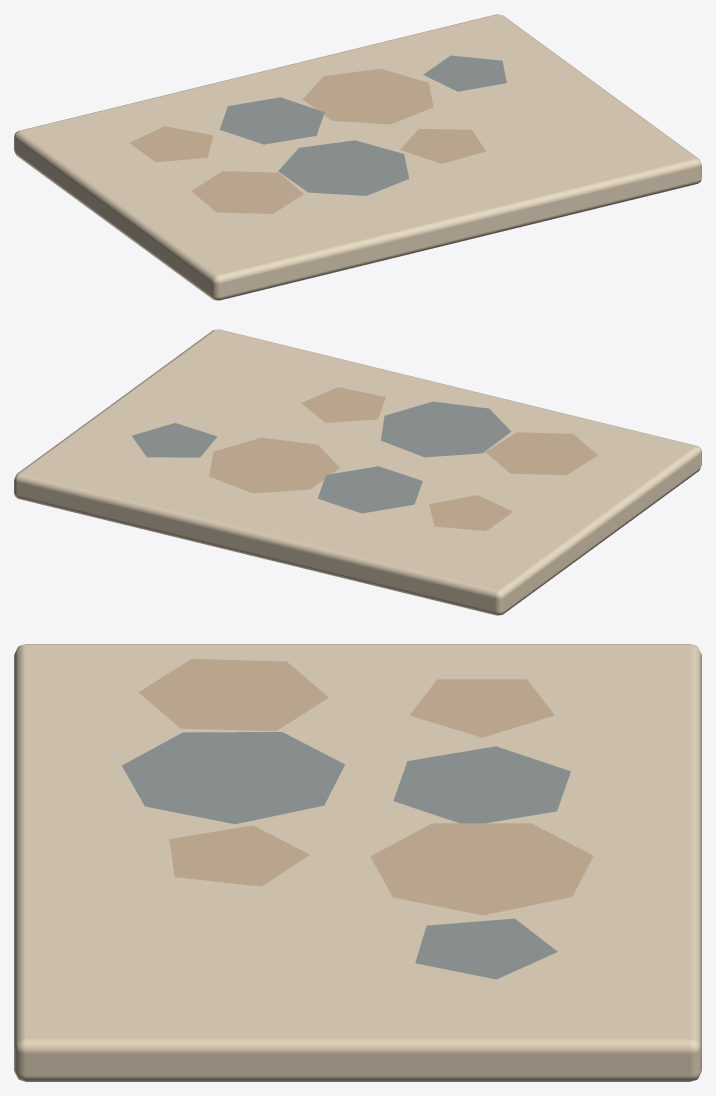
Rendered from sherd-tray-v2.glb.
3 renders of one model, top to bottom at view 1: azimuth 30°, elevation 25°; view 2: azimuth 150°, elevation 25°; view 3: azimuth 270°, elevation 25°, orthographic. The views are drawn at different scales.
Visible parts, largest first — view 1: Archival tray, Irregular pottery sherd (×7); view 2: Archival tray, Irregular pottery sherd (×7); view 3: Archival tray, Irregular pottery sherd (×7).
Boxes of the visible parts, x1,y1,x2,y2 form: Archival tray: (14,14,701,300); Irregular pottery sherd (×7): (129,55,506,213); Archival tray: (14,329,701,615); Irregular pottery sherd (×7): (132,387,597,531); Archival tray: (14,644,701,1081); Irregular pottery sherd (×7): (122,659,593,979).
Bounding box in the file's own units: 0.5 × 0.0395 × 0.36.
